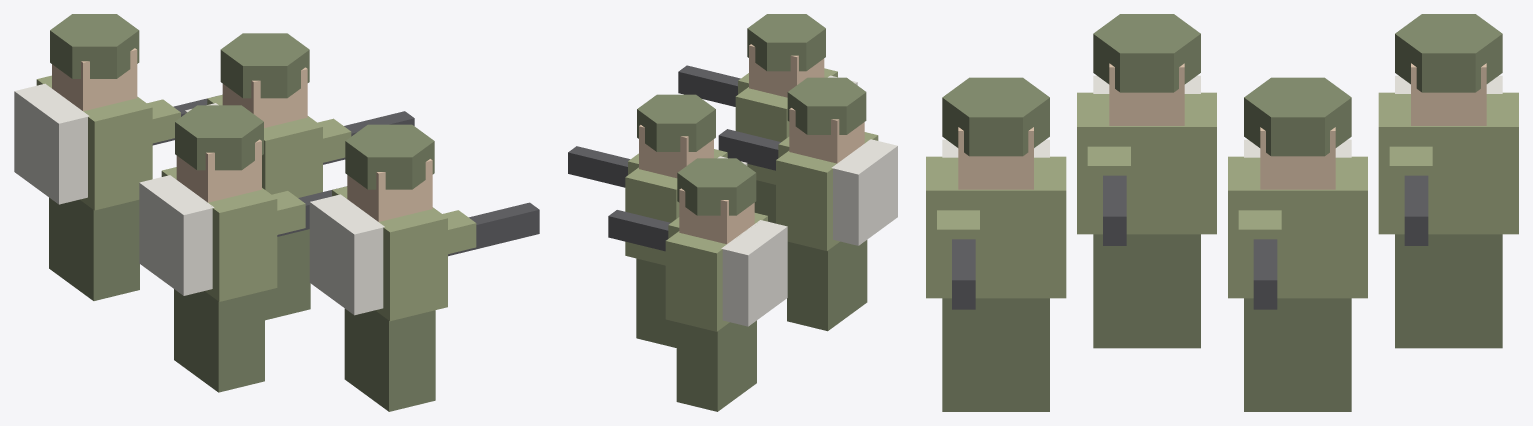
File: formation_front.glb
3 views of the same model, side by side, from view 1: azimuth 30°, elevation 25°; view 2: azimuth 150°, elevation 25°; view 3: azimuth 270°, elevation 25° (orthographic). The views are drawn at different scales.
Parts seen in each view (by area): view 1: modern_formation_front; view 2: modern_formation_front; view 3: modern_formation_front.
Boxes of the visible parts, box(x1,y1,x2,y2) form: modern_formation_front: box(14, 14, 539, 411); modern_formation_front: box(568, 14, 897, 411); modern_formation_front: box(926, 14, 1518, 411).
Bounding box in the file's own units: 0.6997 × 0.5597 × 0.9995.
